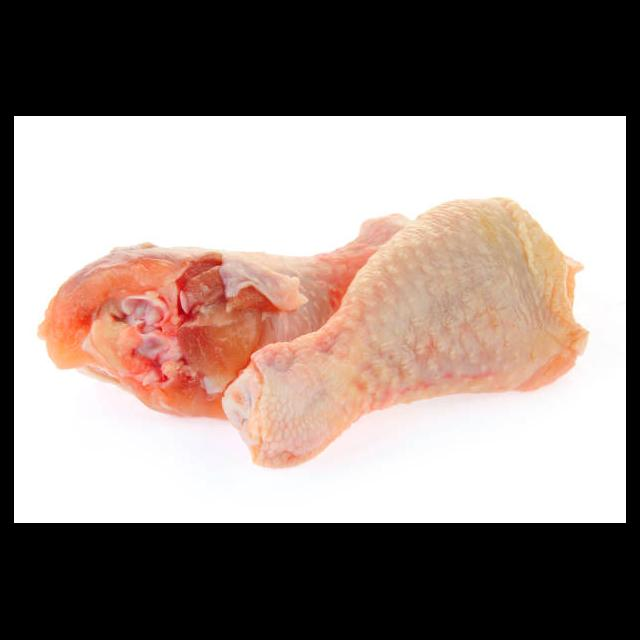chicken: (220, 195, 589, 470), (37, 212, 412, 424)
